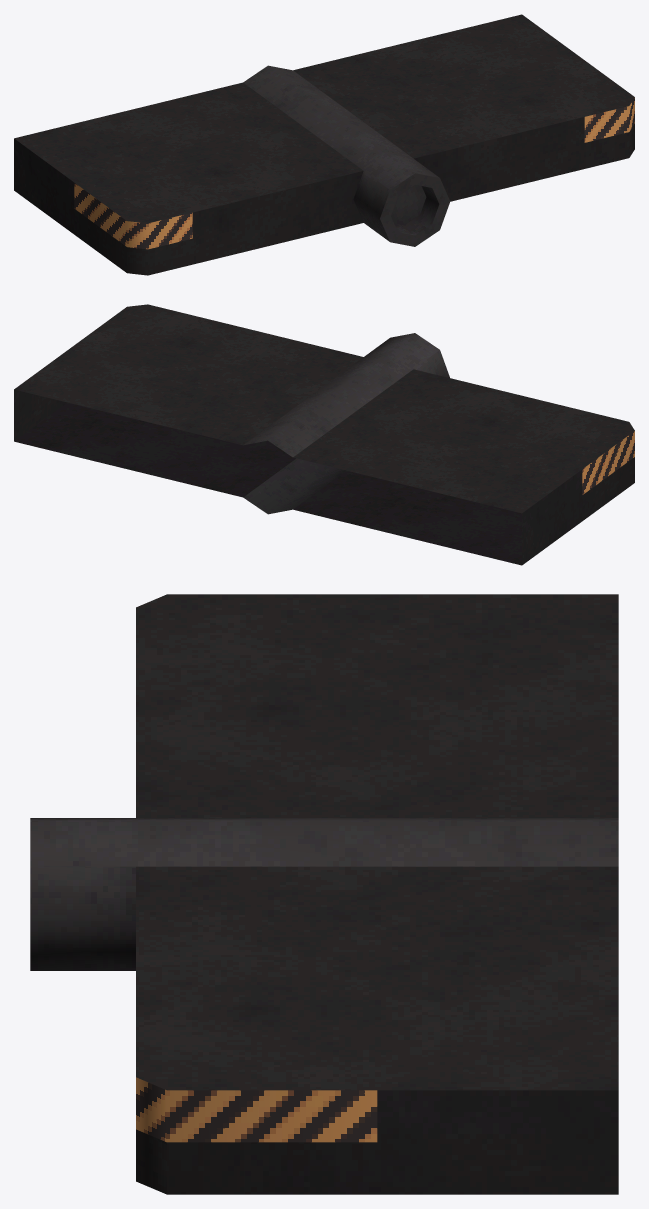
The picture shows the model from 3 angles, top to bottom: view 1: azimuth 30°, elevation 25°; view 2: azimuth 150°, elevation 25°; view 3: azimuth 270°, elevation 25°; orthographic projection. The views are drawn at different scales.
Visible parts, largest first — view 1: 7; view 2: 7; view 3: 7.
Boxes of the visible parts, x1=… form: 7: x1=14, y1=14, x2=634, y2=275; 7: x1=14, y1=304, x2=634, y2=565; 7: x1=30, y1=594, x2=618, y2=1194.
Size of the model in its own units: 5.58 by 0.7737 by 2.8.
Materials: 1 (1 with a texture image).
